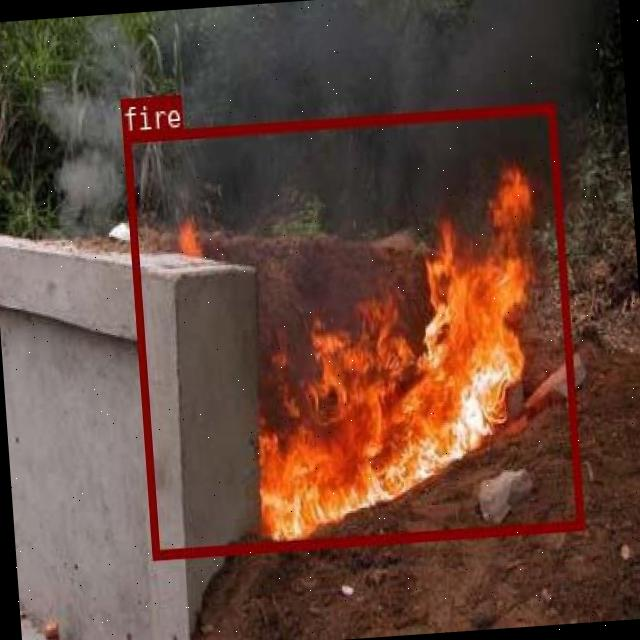fire: (122, 102, 584, 558)
